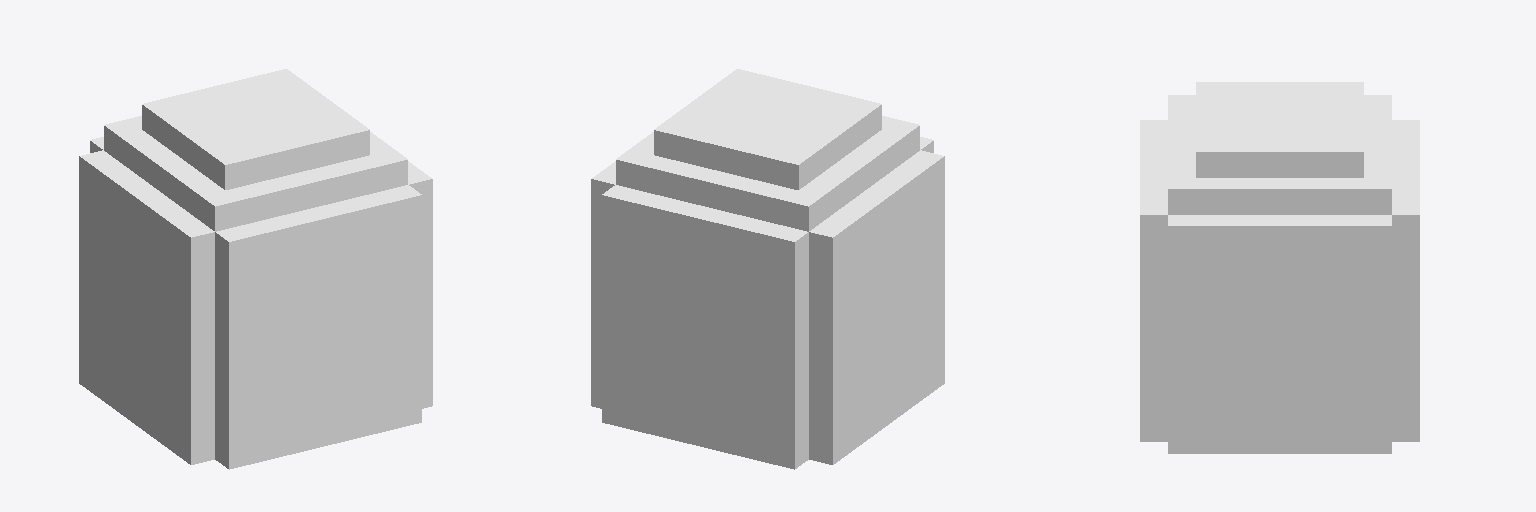
The model's file is relish.obj.
The picture shows the model from 3 angles: view 1: azimuth 30°, elevation 25°; view 2: azimuth 150°, elevation 25°; view 3: azimuth 270°, elevation 25°; orthographic projection.
Visible parts, largest first — view 1: relish; view 2: relish; view 3: relish.
Part boxes in pixels (x1,y1,x2,y2): relish: (79,69,432,469); relish: (591,69,944,469); relish: (1140,82,1419,453).
Bounding box in the file's own units: 10 × 11 × 10.